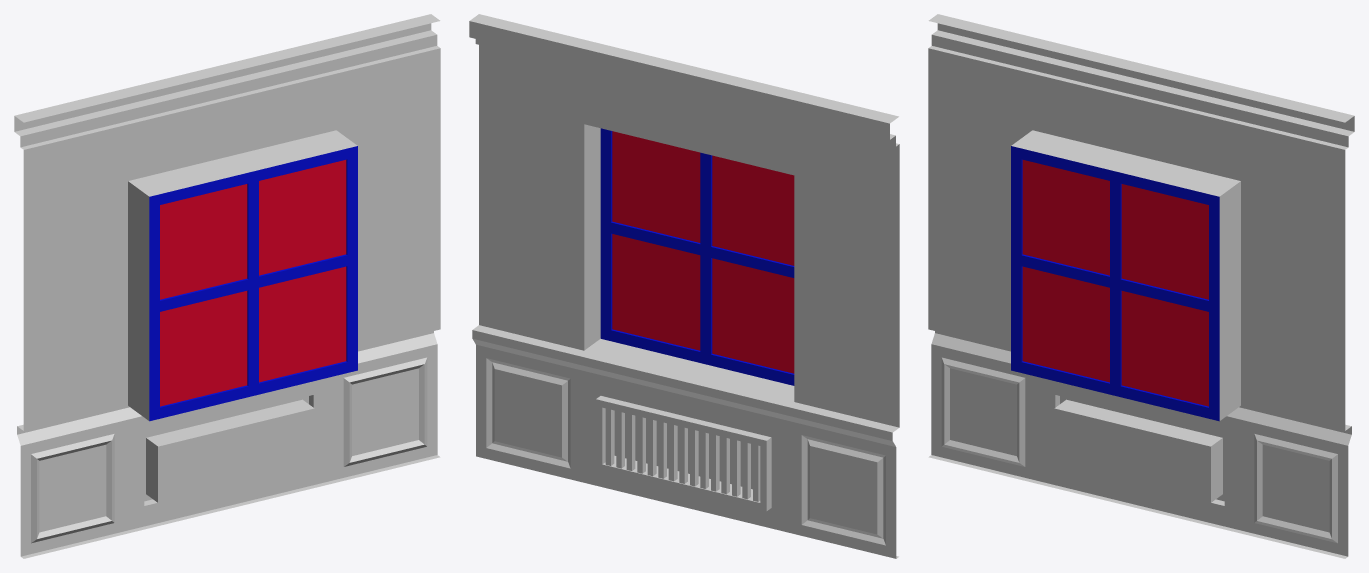
Rendered from Wall High Window.fbx.
3 renders of one model, left to right at view 1: azimuth 30°, elevation 25°; view 2: azimuth 150°, elevation 25°; view 3: azimuth 330°, elevation 25°, orthographic.
Visible parts, largest first — view 1: Wall High Window; view 2: Wall High Window; view 3: Wall High Window.
Part boxes in pixels (<box>): Wall High Window: <box>14,14,440,558</box>; Wall High Window: <box>469,14,899,558</box>; Wall High Window: <box>928,14,1354,558</box>.
Bounding box in the file's own units: 800 × 800 × 103.
